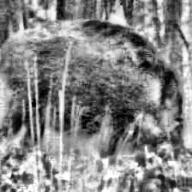boar: (0, 8, 192, 165)
